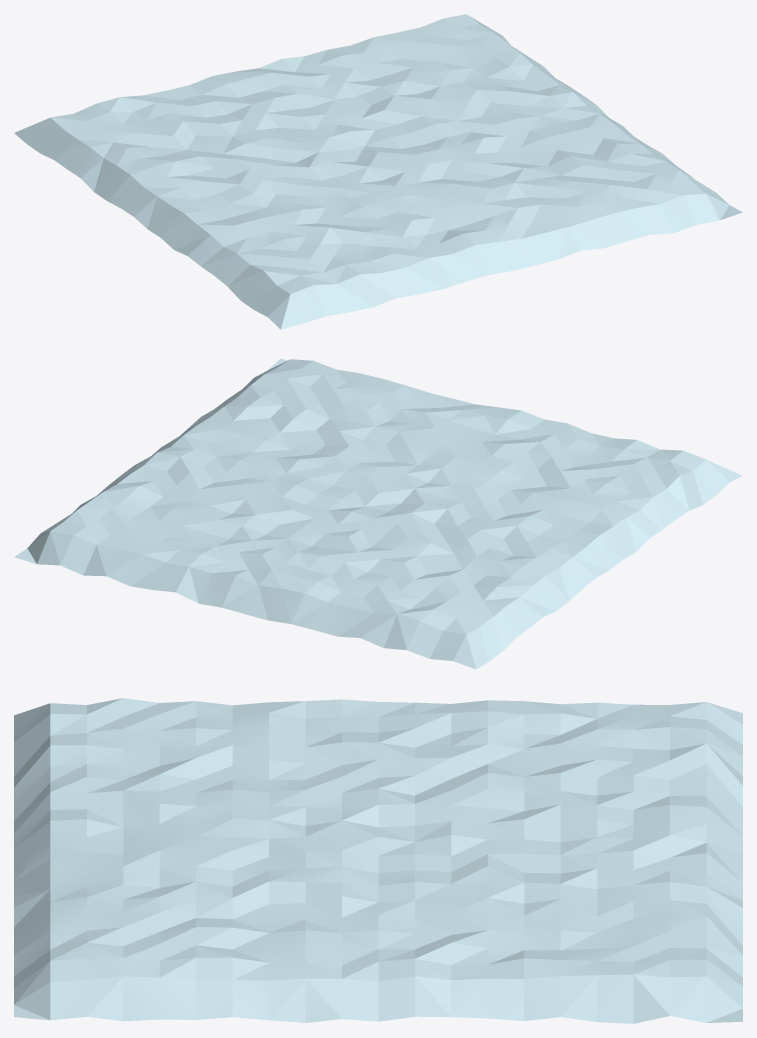
File: Tileset_Nieve01.glb
The picture shows the model from 3 angles, top to bottom: view 1: azimuth 30°, elevation 25°; view 2: azimuth 150°, elevation 25°; view 3: azimuth 270°, elevation 25°; orthographic projection. The views are drawn at different scales.
Visible parts, largest first — view 1: SM_Env_Dirt_Tile_Large_02_Snow; view 2: SM_Env_Dirt_Tile_Large_02_Snow; view 3: SM_Env_Dirt_Tile_Large_02_Snow.
Boxes of the visible parts, x1,y1,x2,y2 form: SM_Env_Dirt_Tile_Large_02_Snow: [14, 14, 742, 329]; SM_Env_Dirt_Tile_Large_02_Snow: [14, 358, 742, 669]; SM_Env_Dirt_Tile_Large_02_Snow: [14, 698, 742, 1023].
Size of the model in its own units: 30 by 1.61 by 30.
Materials: 1 (1 with a texture image).
